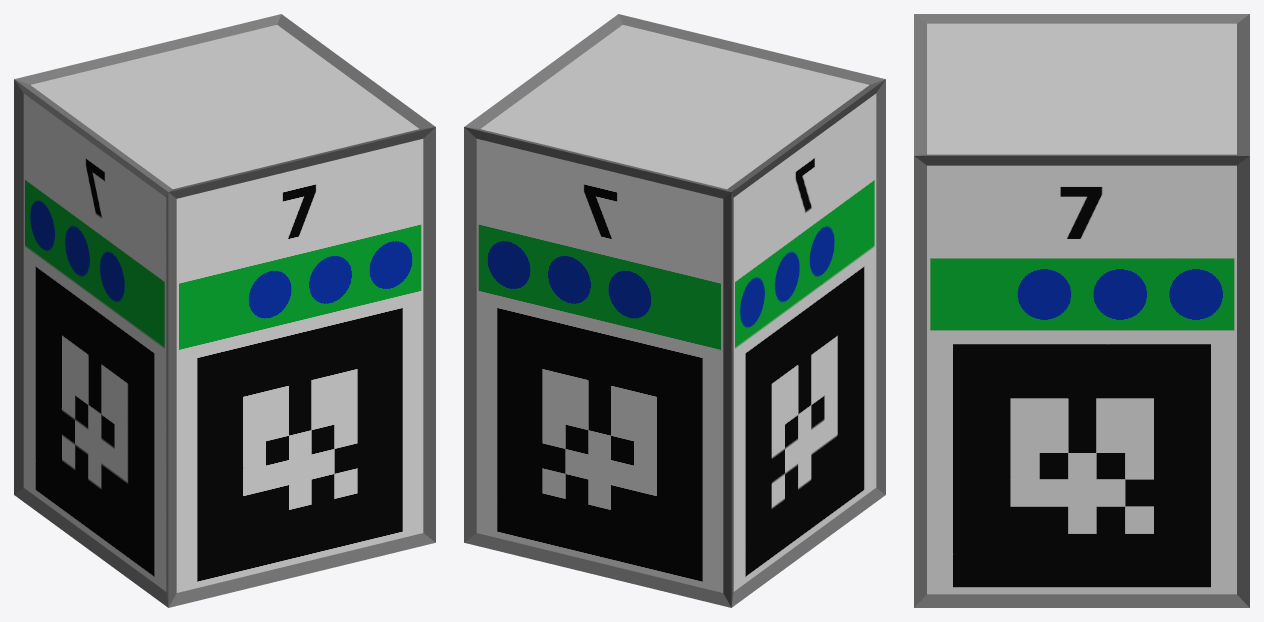
Rendered from marker7.dae.
3 views of the same model, side by side, from view 1: azimuth 30°, elevation 25°; view 2: azimuth 150°, elevation 25°; view 3: azimuth 270°, elevation 25° (orthographic). The views are drawn at different scales.
Visible parts, largest first — view 1: Cube, Cube_001; view 2: Cube, Cube_001; view 3: Cube, Cube_001.
Part boxes in pixels (box(x1,y1,x2,y2)): Cube: box(23, 25, 423, 592); Cube_001: box(14, 14, 435, 607); Cube: box(476, 25, 876, 592); Cube_001: box(464, 14, 885, 607); Cube: box(927, 23, 1236, 594); Cube_001: box(914, 14, 1249, 607).
Bounding box in the file's own units: 2.06 × 2.06 × 3.06.
3 materials, 1 textured.
